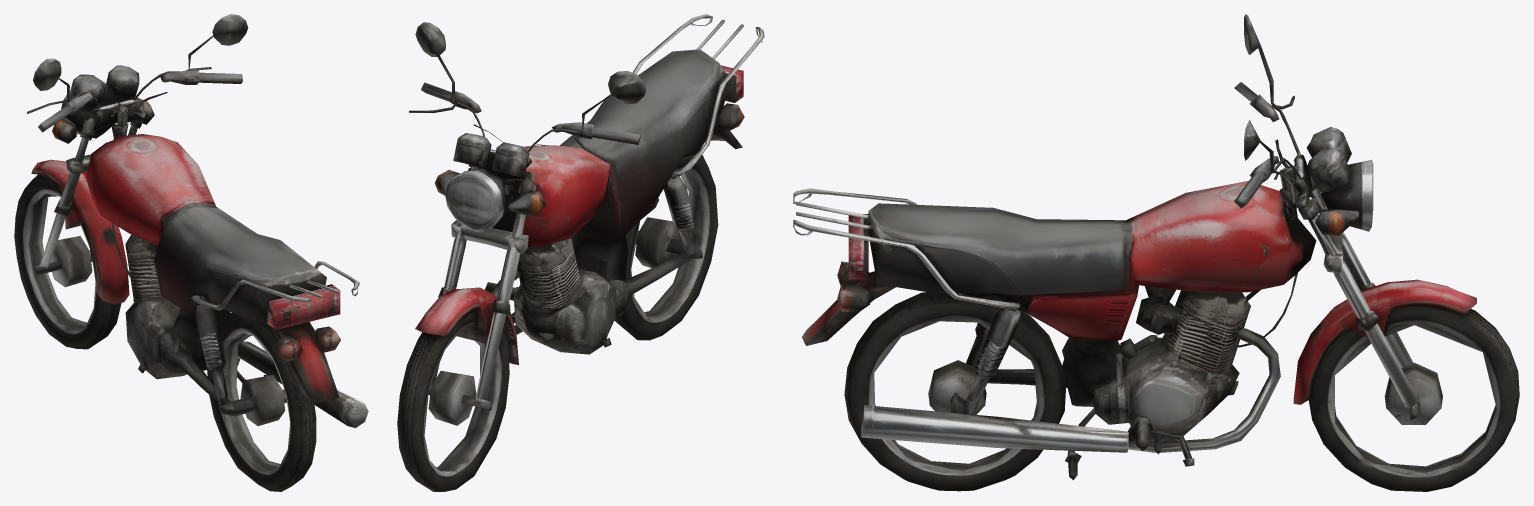
Rendered from moto.glb.
3 renders of one model, left to right at view 1: azimuth 30°, elevation 25°; view 2: azimuth 150°, elevation 25°; view 3: azimuth 270°, elevation 25°, orthographic. The views are drawn at different scales.
Visible parts, largest first — view 1: tripo_node_c79732a3-c97d-415d-80e6-43fbb8409bdf; view 2: tripo_node_c79732a3-c97d-415d-80e6-43fbb8409bdf; view 3: tripo_node_c79732a3-c97d-415d-80e6-43fbb8409bdf.
Boxes of the visible parts, x1,y1,x2,y2 form: tripo_node_c79732a3-c97d-415d-80e6-43fbb8409bdf: (14, 14, 368, 491); tripo_node_c79732a3-c97d-415d-80e6-43fbb8409bdf: (397, 14, 764, 491); tripo_node_c79732a3-c97d-415d-80e6-43fbb8409bdf: (793, 14, 1519, 491).
Size of the model in its own units: 0.4043 by 0.6426 by 0.998.
1 material, 1 textured.
